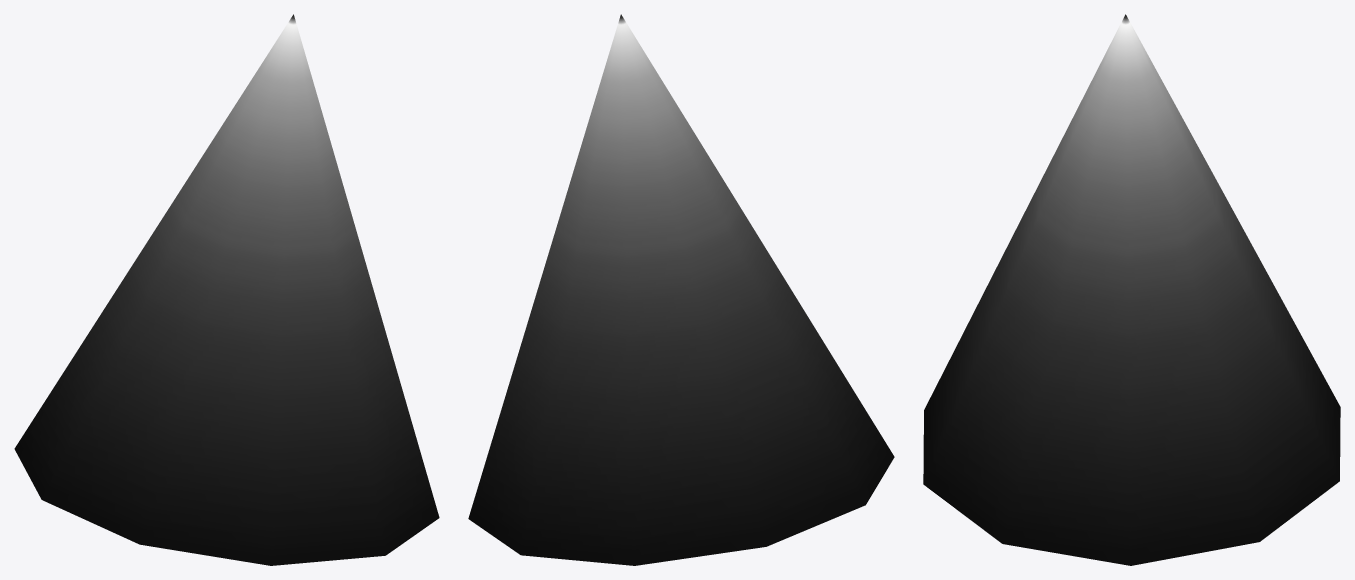
File: spotlight.glb
3 renders of one model, left to right at view 1: azimuth 30°, elevation 25°; view 2: azimuth 150°, elevation 25°; view 3: azimuth 270°, elevation 25°, orthographic.
Parts seen in each view (by area): view 1: lightcone_001_Cylinder_000; view 2: lightcone_001_Cylinder_000; view 3: lightcone_001_Cylinder_000.
Part boxes in pixels (box(x1,y1,x2,y2)): lightcone_001_Cylinder_000: box(14, 14, 439, 565); lightcone_001_Cylinder_000: box(468, 14, 894, 565); lightcone_001_Cylinder_000: box(923, 14, 1340, 565).
Bounding box in the file's own units: 2.59 × 3.25 × 2.5.
Materials: 1 (1 with a texture image).
